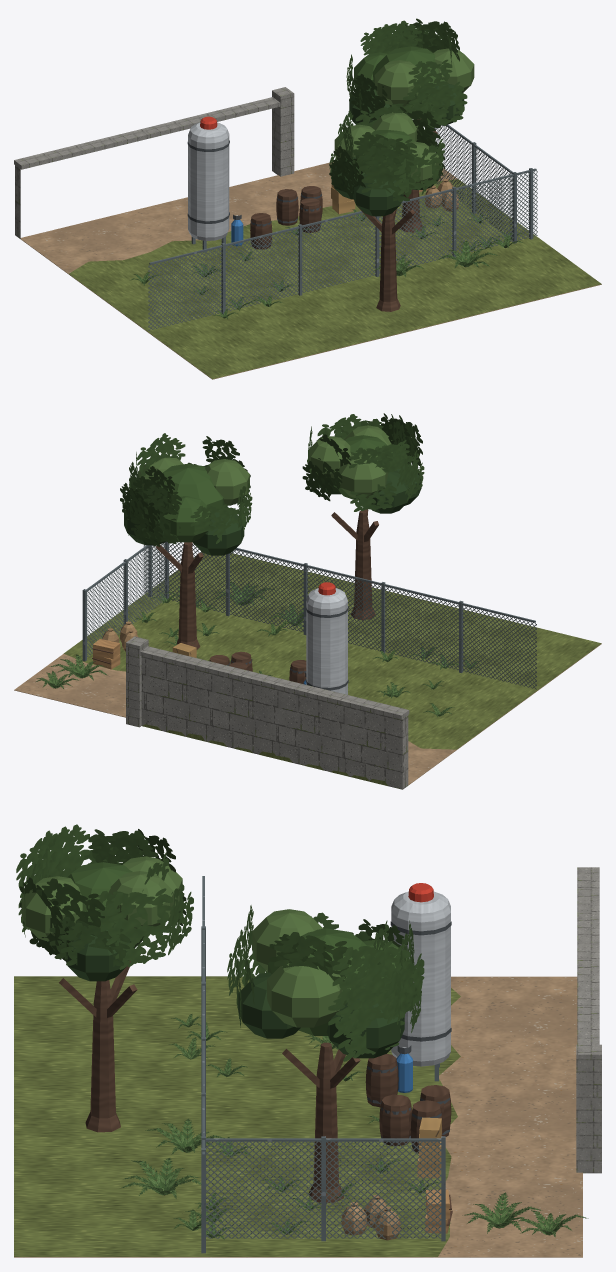
Rendered from back_w.glb.
3 views of the same model, one above another, from view 1: azimuth 30°, elevation 25°; view 2: azimuth 150°, elevation 25°; view 3: azimuth 270°, elevation 25° (orthographic). The views are drawn at different scales.
Parts seen in each view (by area): view 1: back_w_ground, back_w_vegetation, back_w_fence, back_w_props, back_w_wall; view 2: back_w_ground, back_w_vegetation, back_w_wall, back_w_fence, back_w_props; view 3: back_w_ground, back_w_vegetation, back_w_fence, back_w_props, back_w_wall.
Part boxes in pixels (box(x1,y1,x2,y2)): back_w_ground: box(20, 162, 601, 379); back_w_vegetation: box(130, 18, 523, 318); back_w_fence: box(148, 124, 537, 330); back_w_props: box(187, 116, 458, 252); back_w_wall: box(14, 87, 294, 238); back_w_ground: box(14, 553, 601, 785); back_w_vegetation: box(36, 413, 479, 716); back_w_wall: box(126, 636, 409, 789); back_w_fence: box(82, 541, 536, 689); back_w_props: box(92, 582, 348, 694); back_w_ground: box(14, 976, 582, 1257); back_w_vegetation: box(16, 824, 588, 1239); back_w_fence: box(201, 876, 445, 1253); back_w_props: box(341, 883, 452, 1240); back_w_wall: box(576, 867, 601, 1173).
Size of the model in its own units: 11.9 by 5.71 by 10.54.
16 materials, 16 textured.
